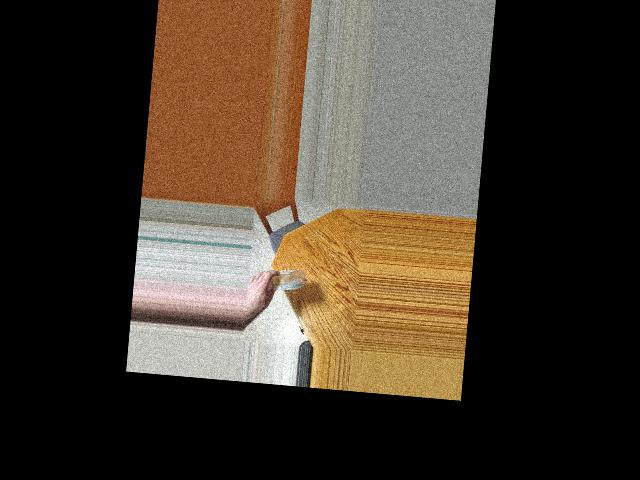cheese: (256, 258, 306, 310)
